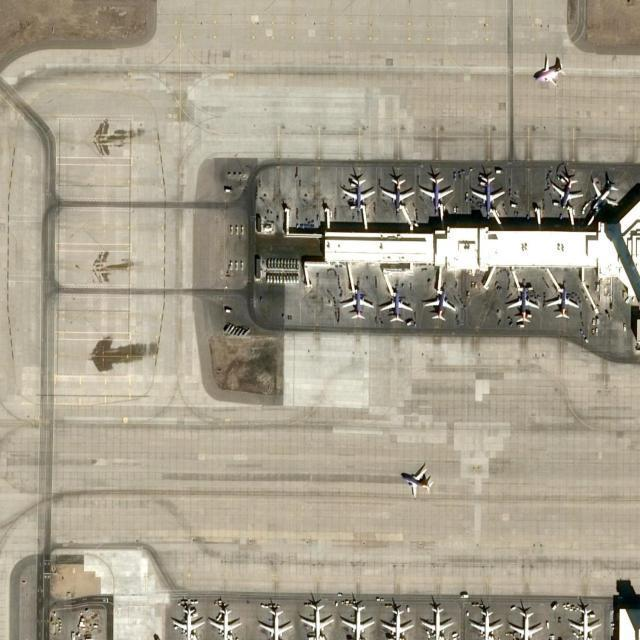Aircraft: (467, 172, 506, 214), (336, 601, 376, 640), (338, 283, 377, 321), (255, 603, 294, 640), (298, 599, 334, 639), (381, 172, 415, 214), (548, 171, 583, 211), (543, 282, 579, 320), (419, 172, 453, 212), (507, 285, 541, 325), (379, 286, 413, 326), (507, 603, 543, 640), (341, 172, 374, 212), (469, 603, 505, 639), (419, 602, 453, 640), (399, 464, 435, 499), (380, 605, 416, 640), (170, 603, 205, 639), (209, 603, 243, 640), (422, 286, 456, 322), (567, 604, 601, 640), (587, 176, 620, 213), (533, 54, 565, 87)
